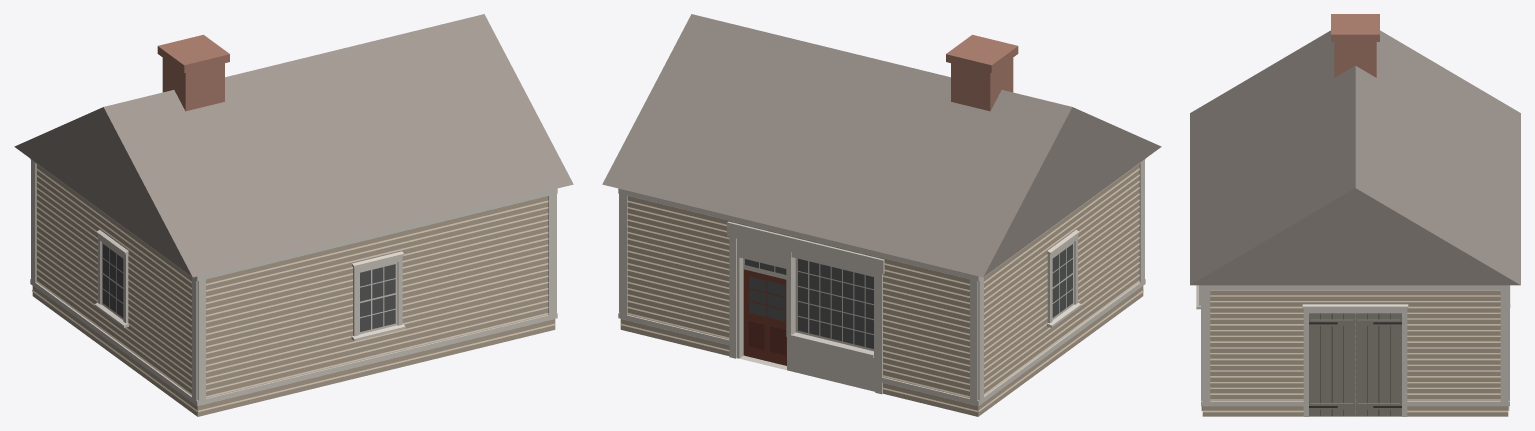
Rendered from pruyne_kimball_drugstore__frame_1830s.glb.
3 views of the same model, side by side, from view 1: azimuth 30°, elevation 25°; view 2: azimuth 150°, elevation 25°; view 3: azimuth 270°, elevation 25° (orthographic). The views are drawn at different scales.
Visible parts, largest first — view 1: pruyne_kimball_drugstore__frame_1830s; view 2: pruyne_kimball_drugstore__frame_1830s; view 3: pruyne_kimball_drugstore__frame_1830s.
Boxes of the visible parts, box(x1,y1,x2,y2) form: pruyne_kimball_drugstore__frame_1830s: box(14, 14, 573, 416); pruyne_kimball_drugstore__frame_1830s: box(602, 14, 1161, 416); pruyne_kimball_drugstore__frame_1830s: box(1190, 14, 1520, 416).
Bounding box in the file's own units: 8.12 × 5.85 × 6.6.
